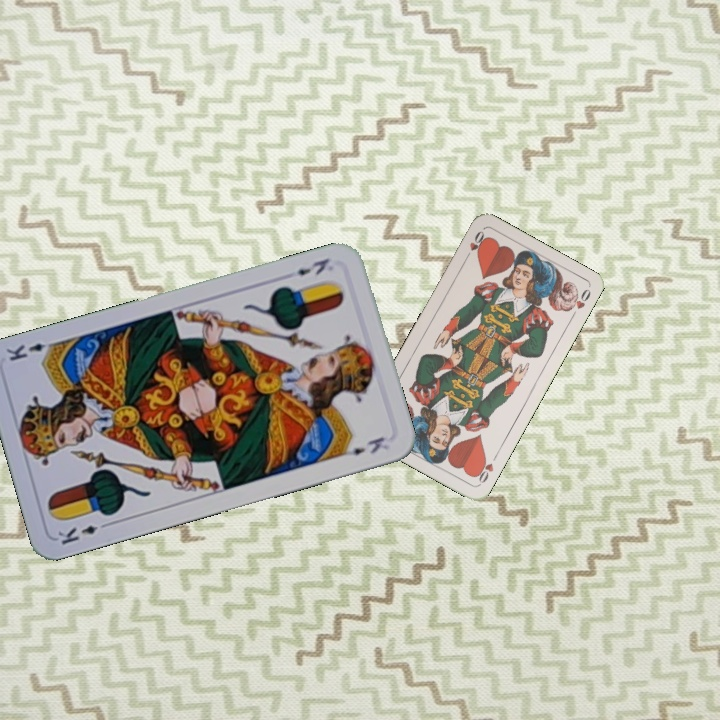EK: (53, 518, 113, 548), (292, 254, 332, 278)
HO: (471, 450, 501, 487), (461, 227, 488, 263)
